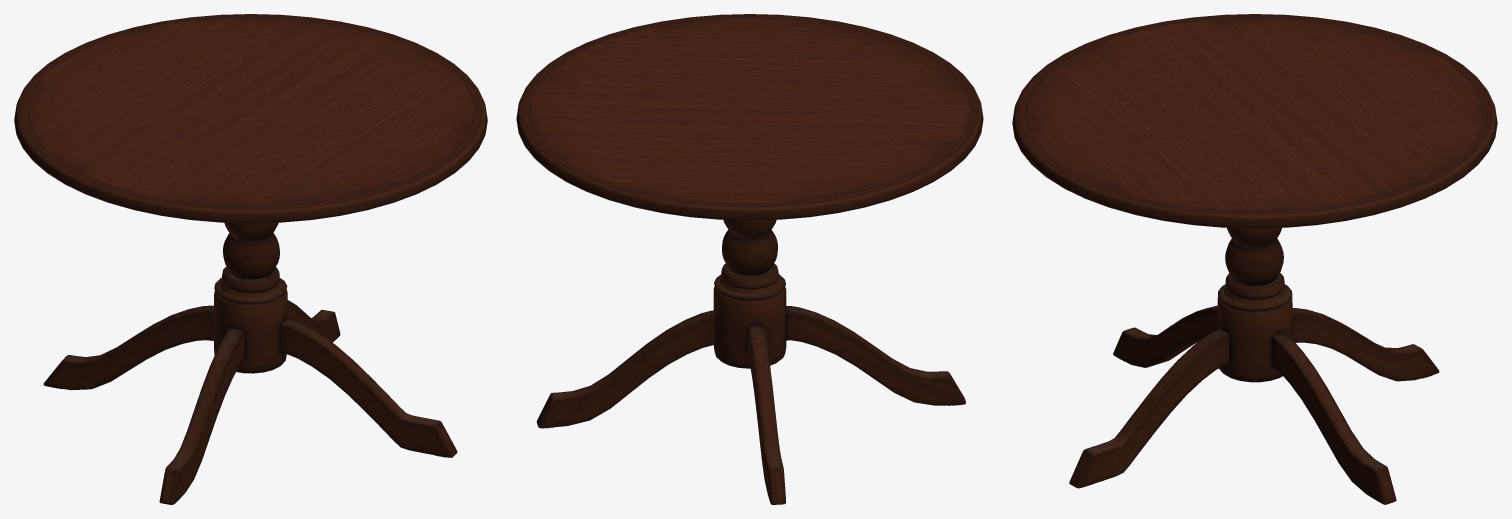
File: round_wooden_table_01.glb
3 views of the same model, side by side, from view 1: azimuth 30°, elevation 25°; view 2: azimuth 150°, elevation 25°; view 3: azimuth 270°, elevation 25° (orthographic). The views are drawn at different scales.
Visible parts, largest first — view 1: round_wooden_table_01; view 2: round_wooden_table_01; view 3: round_wooden_table_01.
Boxes of the visible parts, left/top/right/bottom form: round_wooden_table_01: left=14, top=14, right=487, bottom=504; round_wooden_table_01: left=516, top=14, right=983, bottom=504; round_wooden_table_01: left=1012, top=14, right=1497, bottom=504.
Bounding box in the file's own units: 1.4 × 1.01 × 1.4.
Materials: 1 (1 with a texture image).
